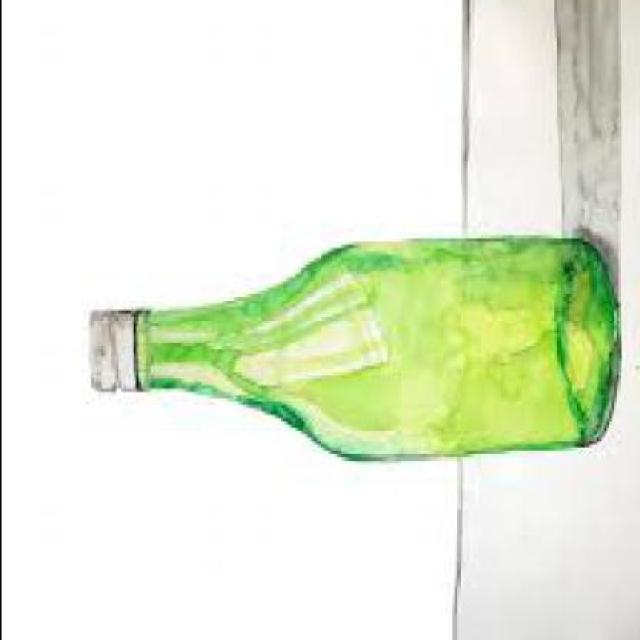GLASS: (87, 245, 615, 460)
METAL: (88, 310, 136, 392)
